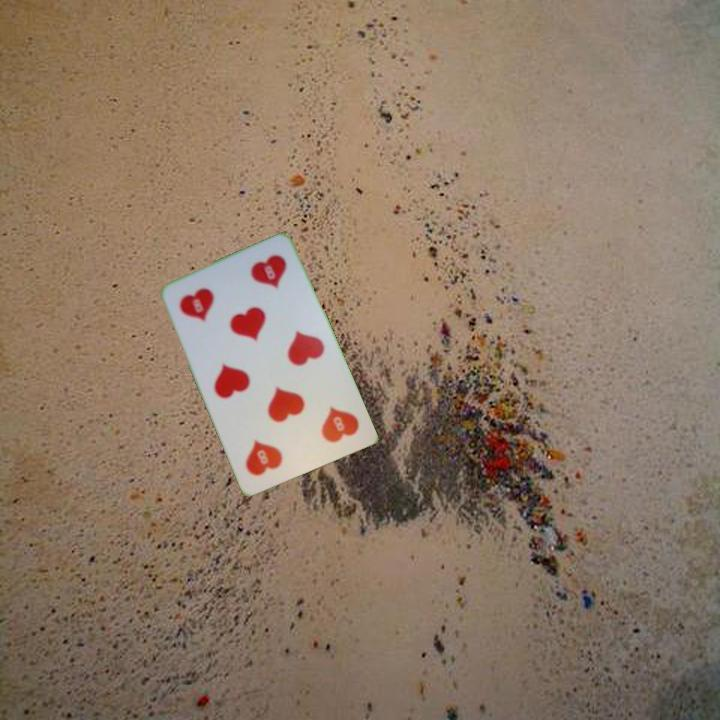h_8.png: (167, 266, 250, 344), (284, 383, 366, 461)
